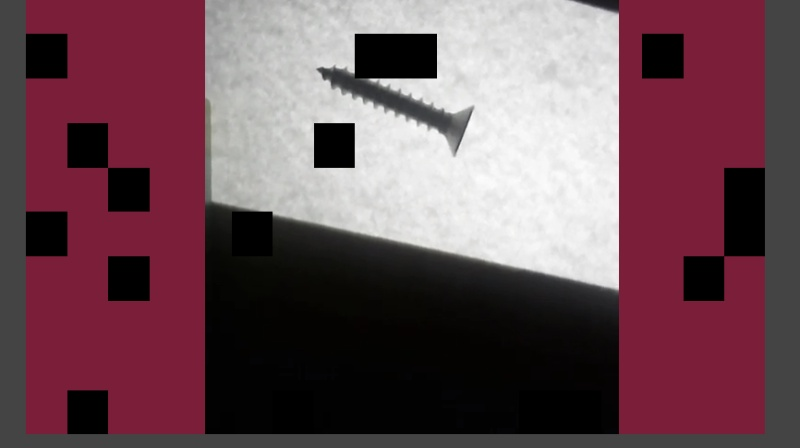S001: (311, 63, 476, 159)
